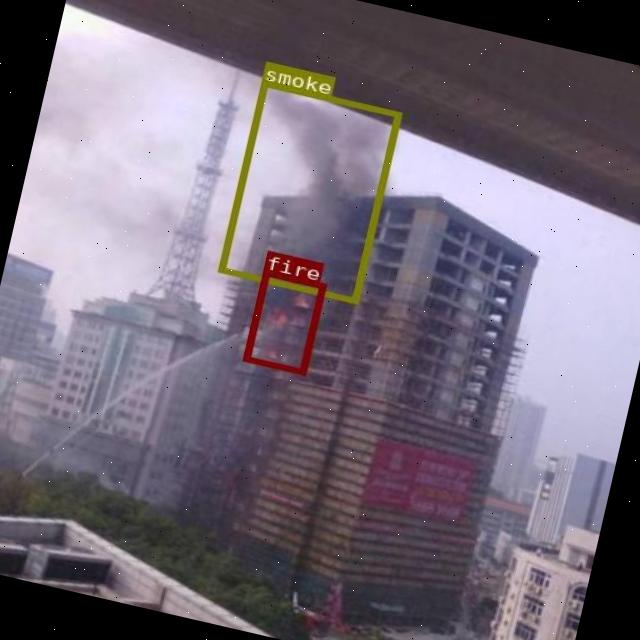fire: (242, 268, 324, 373)
smoke: (218, 80, 400, 302)
